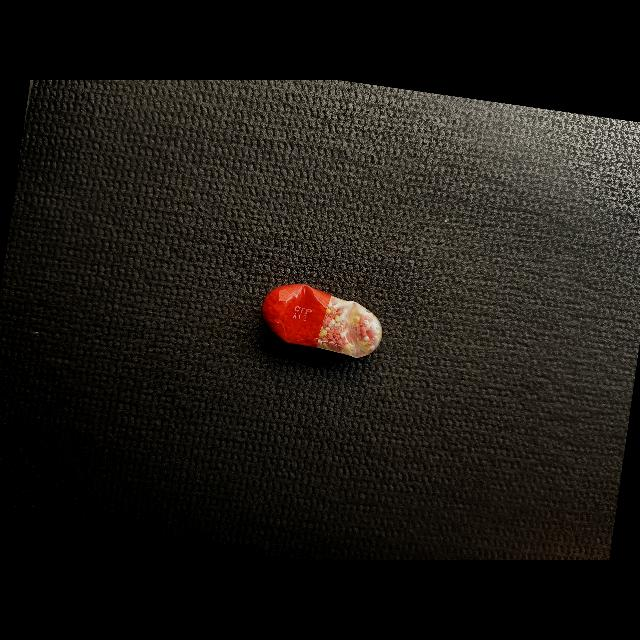Defective Capsule: (261, 284, 382, 358)
